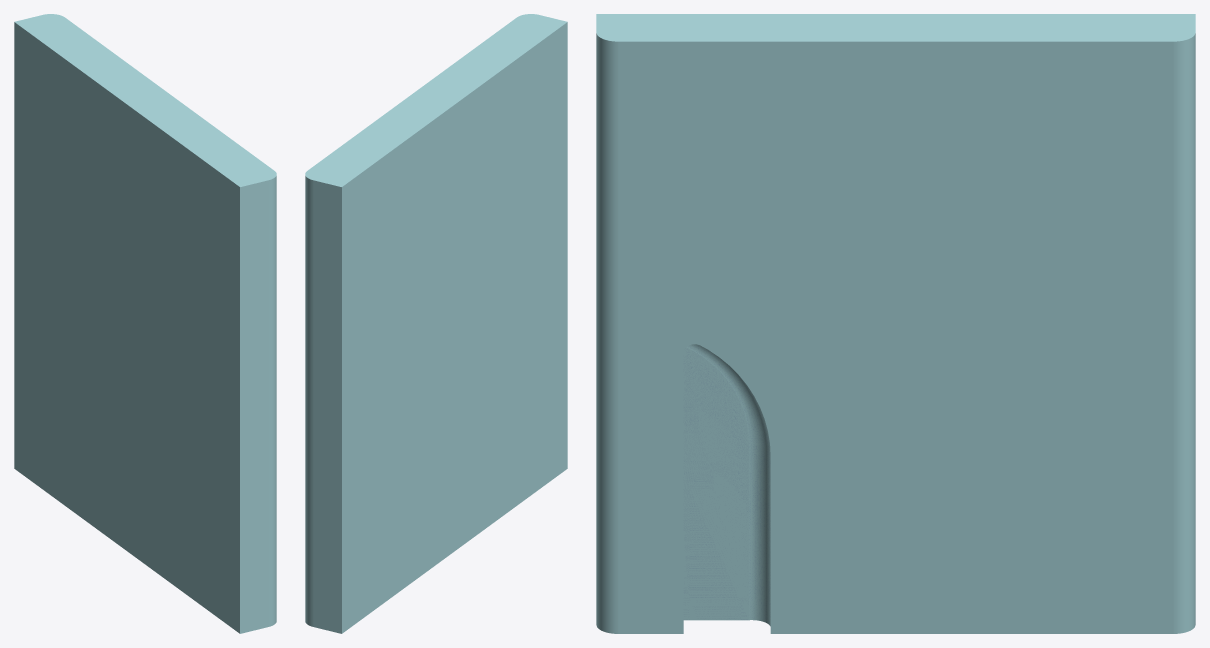
The model's file is refrigerator_up_door.dae.
3 renders of one model, left to right at view 1: azimuth 30°, elevation 25°; view 2: azimuth 150°, elevation 25°; view 3: azimuth 270°, elevation 25°, orthographic. The views are drawn at different scales.
Visible parts, largest first — view 1: 电冰箱01; view 2: 电冰箱01; view 3: 电冰箱01 (×2).
Boxes of the visible parts, x1,y1,x2,y2 form: 电冰箱01: [14, 14, 276, 633]; 电冰箱01: [305, 14, 567, 633]; 电冰箱01 (×2): [596, 14, 1195, 633].
Size of the model in its own units: 2.36 by 21.65 by 23.62.
